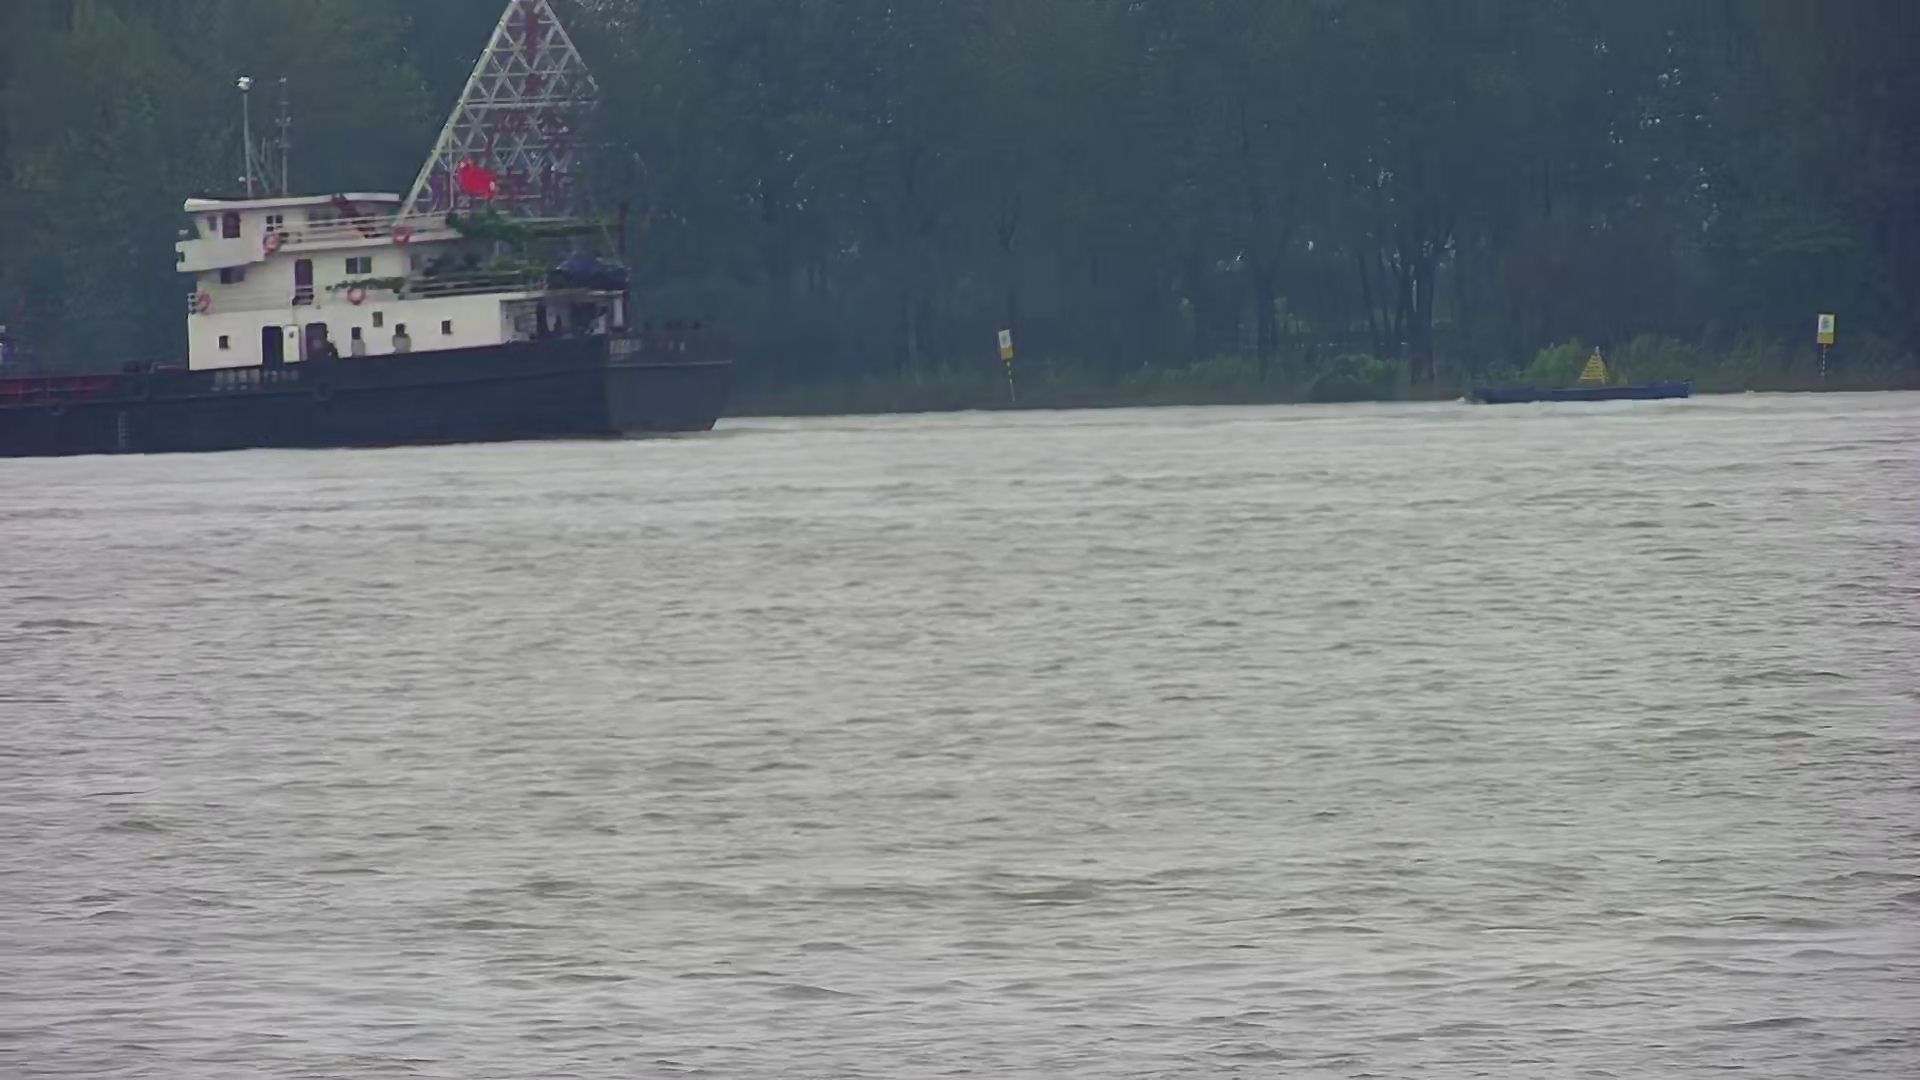boat: (1462, 349, 1692, 405)
mast: (992, 331, 1022, 411), (1809, 313, 1837, 390)
ship: (1, 175, 746, 456)
